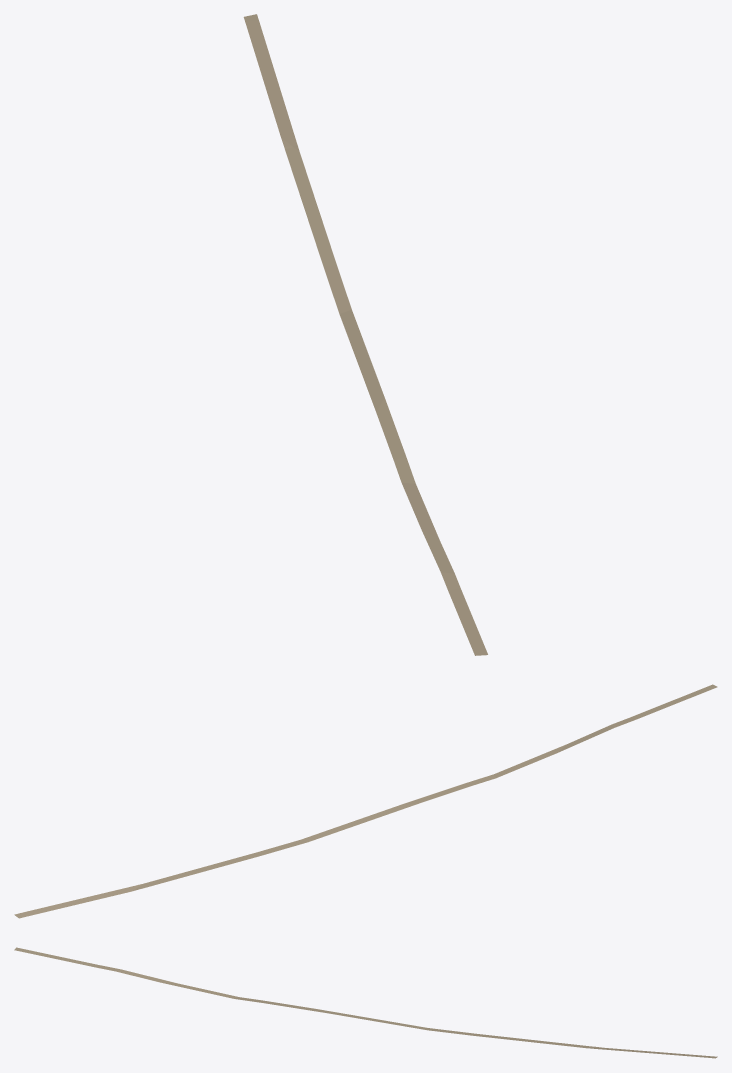
The model's file is farm_-20_-28_track.glb.
3 renders of one model, top to bottom at view 1: azimuth 30°, elevation 25°; view 2: azimuth 150°, elevation 25°; view 3: azimuth 270°, elevation 25°, orthographic. The views are drawn at different scales.
Parts seen in each view (by area): view 1: geometry_0; view 2: geometry_0; view 3: geometry_0.
Part boxes in pixels (bbox=[...]): geometry_0: bbox=[243, 14, 487, 655]; geometry_0: bbox=[14, 684, 717, 918]; geometry_0: bbox=[14, 947, 717, 1058].
Size of the model in its own units: 135 by 10.46 by 342.
